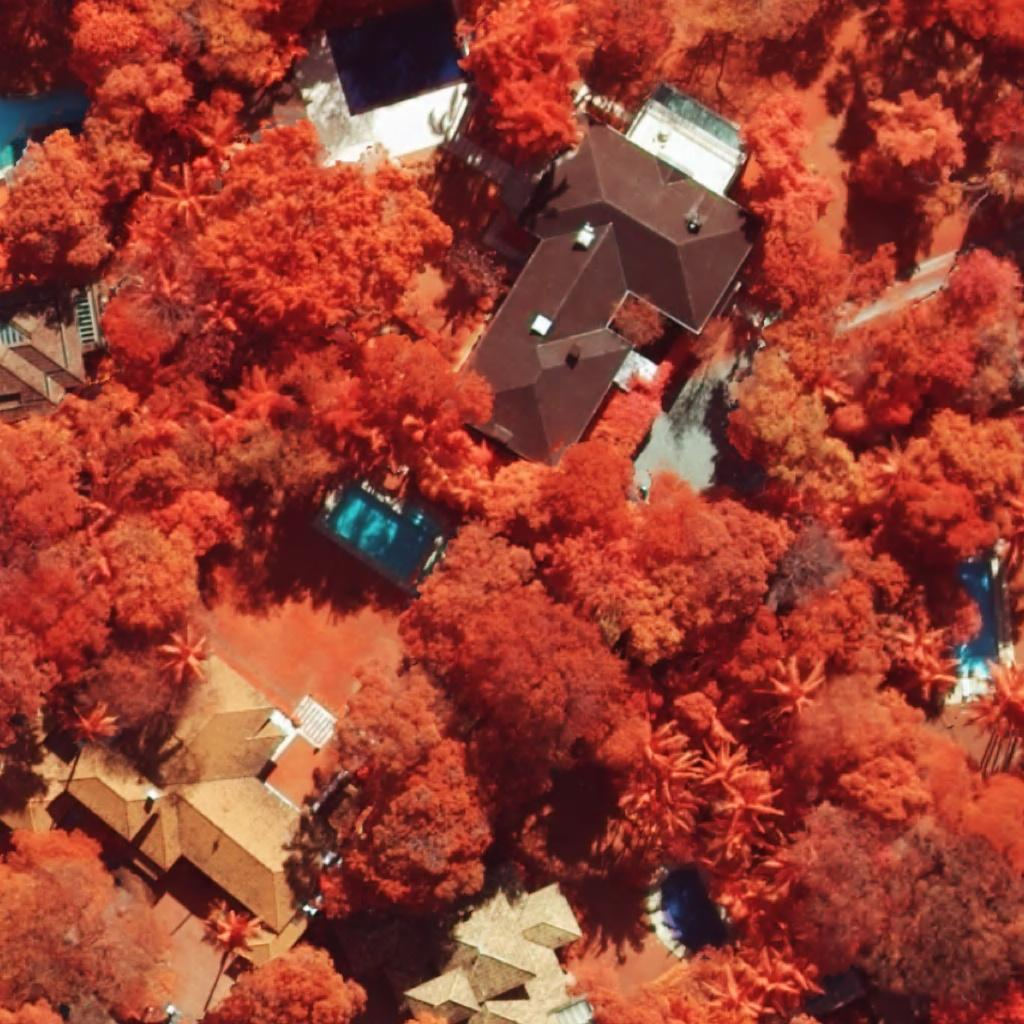pool: (326, 0, 467, 116), (325, 486, 441, 583), (0, 93, 90, 170), (660, 867, 729, 953), (956, 560, 999, 674)
